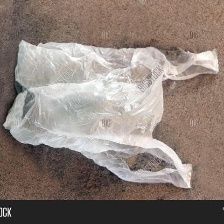plastic_bag: (1, 32, 224, 197)
